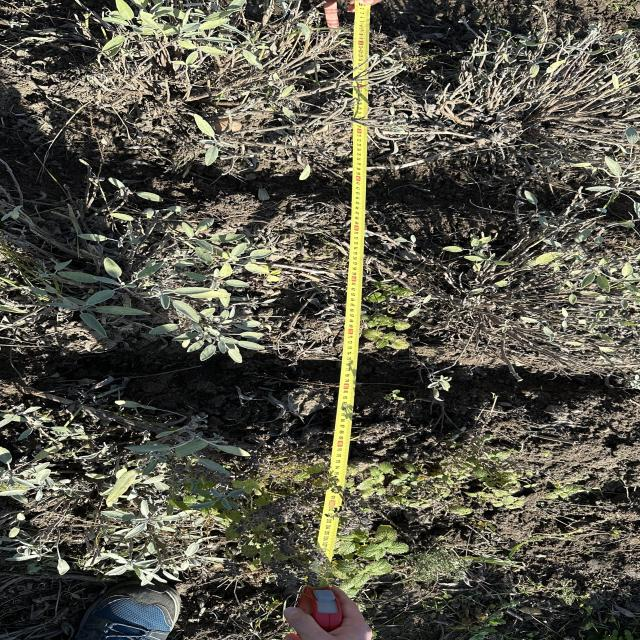plant: (148, 194, 368, 346), (94, 18, 347, 148), (448, 56, 628, 178), (484, 228, 634, 369), (0, 182, 122, 336)
